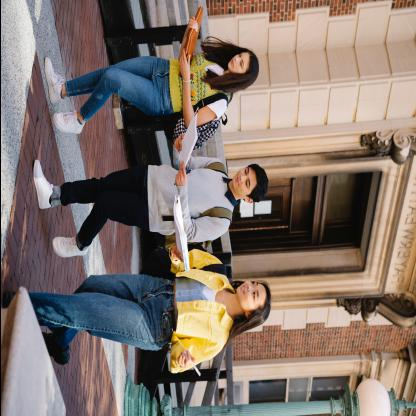Eye: (252, 291, 255, 302), (239, 61, 242, 69), (243, 168, 246, 175), (245, 180, 247, 189), (251, 282, 254, 286), (238, 53, 240, 58)
Mouth: (240, 284, 245, 295), (235, 175, 238, 186), (230, 59, 233, 68)
Nose: (239, 174, 246, 183), (246, 285, 253, 291), (234, 56, 239, 64)
